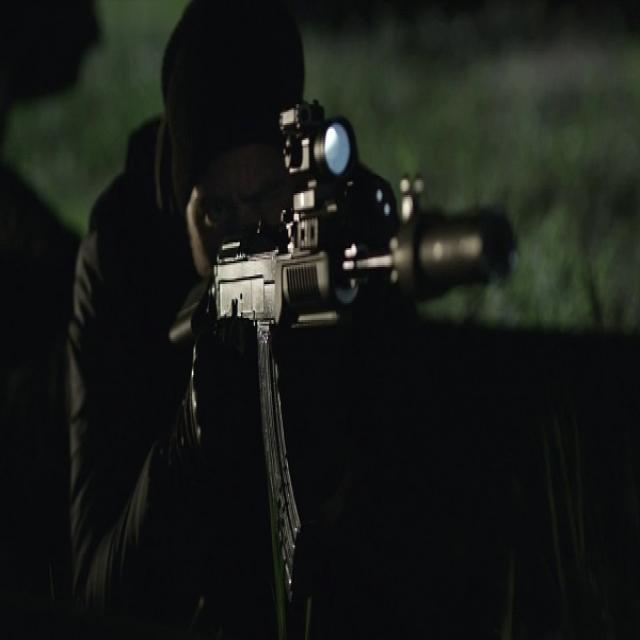rifle: (172, 87, 519, 596)
